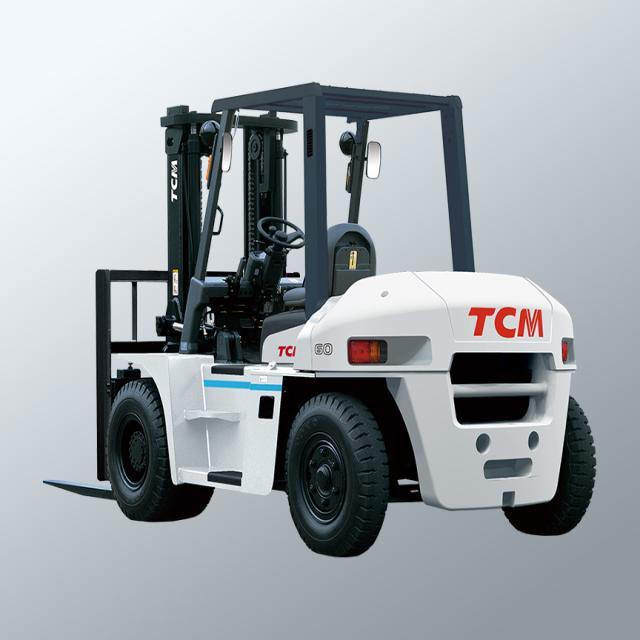forklift: (82, 61, 600, 562)
